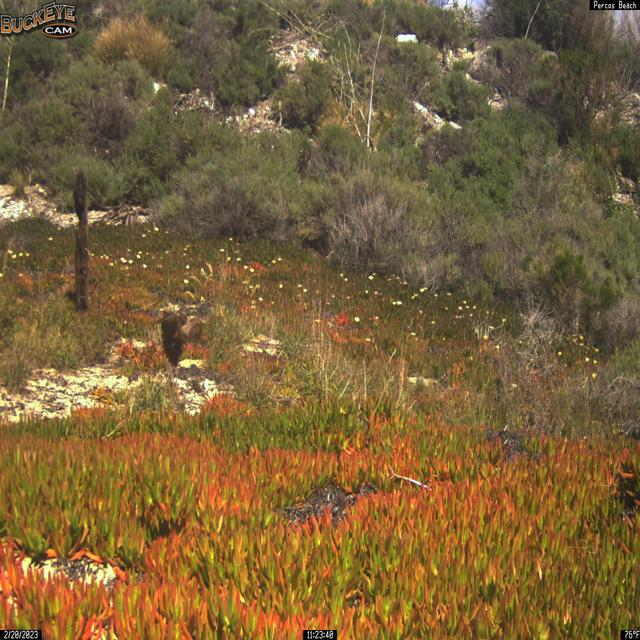bird: (154, 308, 205, 368)
